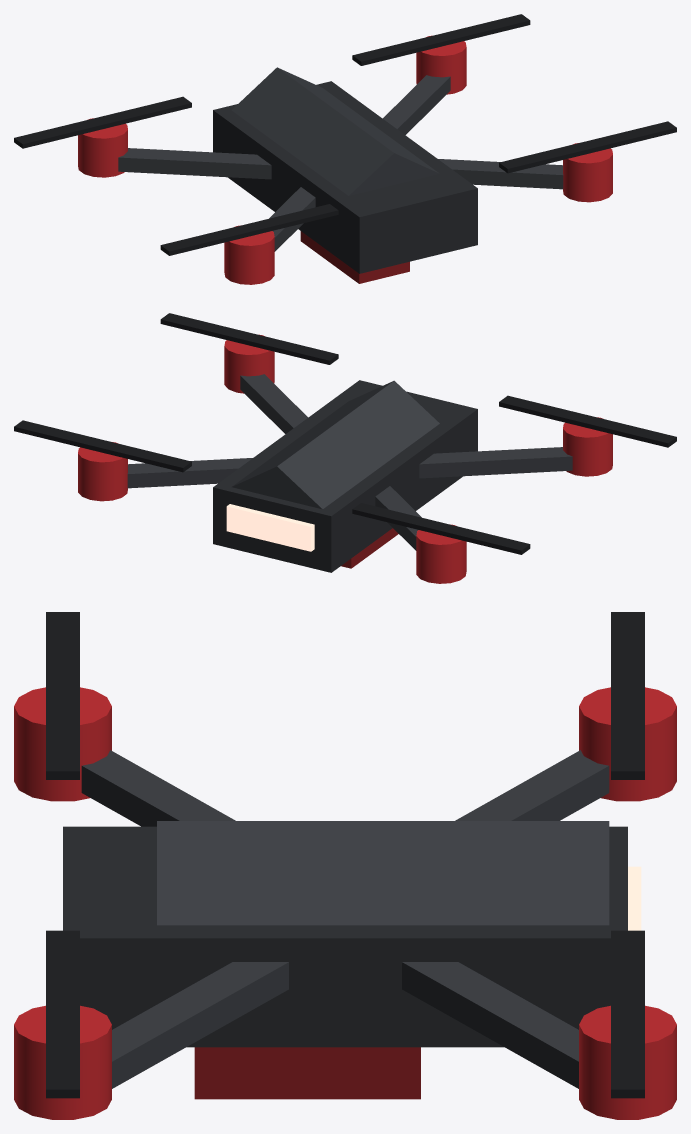
File: hunter.glb
The picture shows the model from 3 angles, top to bottom: view 1: azimuth 30°, elevation 25°; view 2: azimuth 150°, elevation 25°; view 3: azimuth 270°, elevation 25°; orthographic projection. The views are drawn at different scales.
Parts seen in each view (by area): view 1: _MeshInstance3D_50, _MeshInstance3D_51, _MeshInstance3D_53, _MeshInstance3D_59, _MeshInstance3D_56, Rotor2, Rotor3, Rotor1, Rotor4, _MeshInstance3D_60, _MeshInstance3D_54, _MeshInstance3D_57 (+3 smaller); view 2: _MeshInstance3D_50, _MeshInstance3D_51, _MeshInstance3D_55, _MeshInstance3D_52, _MeshInstance3D_57, _MeshInstance3D_54, Rotor1, Rotor4, Rotor2, Rotor3, _MeshInstance3D_58, _MeshInstance3D_56 (+4 smaller); view 3: _MeshInstance3D_50, _MeshInstance3D_51, _MeshInstance3D_61, _MeshInstance3D_57, _MeshInstance3D_59, _MeshInstance3D_58, _MeshInstance3D_60, _MeshInstance3D_54, _MeshInstance3D_56, Rotor3, Rotor4, Rotor1 (+4 smaller).
Boxes of the visible parts, x1,y1,x2,y2 form: _MeshInstance3D_50: [213, 81, 477, 273]; _MeshInstance3D_51: [231, 67, 439, 195]; _MeshInstance3D_53: [118, 148, 271, 179]; _MeshInstance3D_59: [438, 159, 563, 189]; _MeshInstance3D_56: [224, 225, 274, 284]; Rotor2: [160, 204, 338, 255]; Rotor3: [352, 14, 530, 65]; Rotor1: [14, 96, 191, 148]; Rotor4: [499, 121, 676, 173]; _MeshInstance3D_60: [563, 143, 612, 202]; _MeshInstance3D_54: [78, 118, 127, 177]; _MeshInstance3D_57: [383, 75, 450, 134]; _MeshInstance3D_50: [213, 380, 477, 572]; _MeshInstance3D_51: [232, 380, 439, 509]; _MeshInstance3D_55: [419, 447, 572, 478]; _MeshInstance3D_52: [226, 504, 314, 551]; _MeshInstance3D_57: [127, 458, 252, 488]; _MeshInstance3D_54: [416, 524, 466, 583]; Rotor1: [352, 503, 530, 554]; Rotor4: [160, 313, 338, 364]; Rotor2: [499, 395, 676, 447]; Rotor3: [14, 420, 191, 472]; _MeshInstance3D_58: [78, 442, 127, 501]; _MeshInstance3D_56: [563, 417, 612, 476]; _MeshInstance3D_50: [63, 826, 627, 1047]; _MeshInstance3D_51: [157, 821, 609, 925]; _MeshInstance3D_61: [194, 1047, 420, 1099]; _MeshInstance3D_57: [402, 962, 578, 1088]; _MeshInstance3D_59: [112, 962, 288, 1088]; _MeshInstance3D_58: [579, 1005, 676, 1119]; _MeshInstance3D_60: [14, 1005, 111, 1119]; _MeshInstance3D_54: [579, 687, 676, 801]; _MeshInstance3D_56: [14, 687, 111, 801]; Rotor3: [611, 930, 644, 1098]; Rotor4: [46, 930, 79, 1098]; Rotor1: [611, 612, 644, 779].
Size of the model in its own units: 3 by 0.745 by 1.76.
